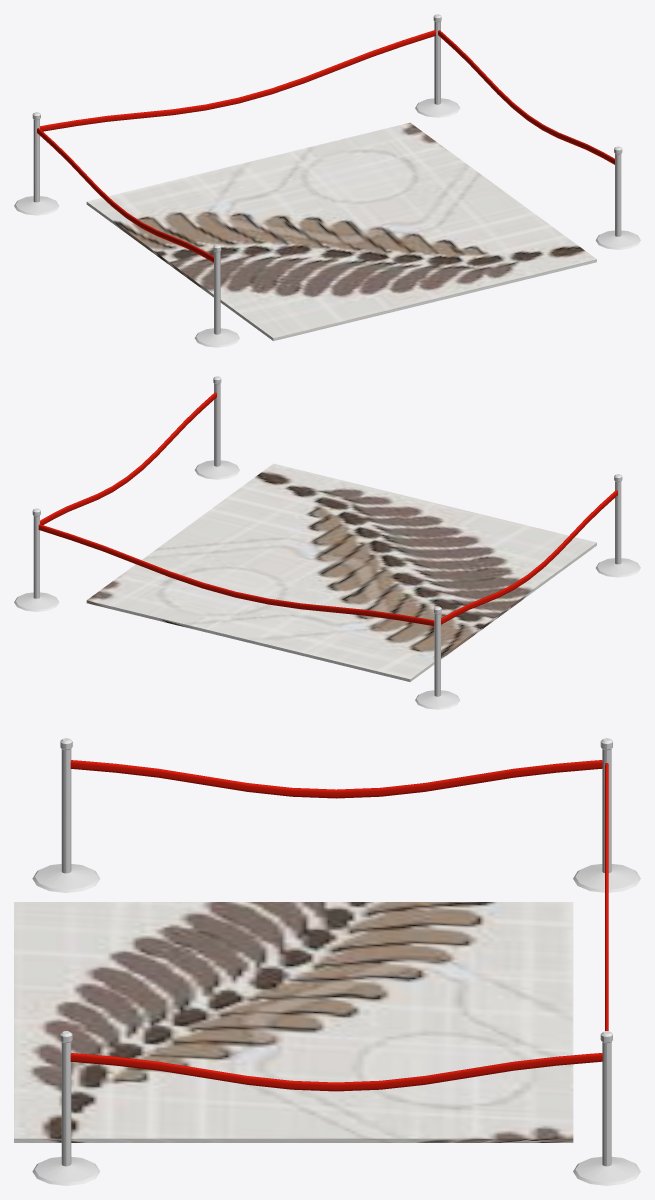
File: Karpet.fbx
3 renders of one model, top to bottom at view 1: azimuth 30°, elevation 25°; view 2: azimuth 150°, elevation 25°; view 3: azimuth 270°, elevation 25°, orthographic. The views are drawn at different scales.
Visible parts, largest first — view 1: Cube.005, Plane.003, Cylinder.003, Cylinder.005, Plane.002; view 2: Cube.005, Plane.003, Cylinder.005, Cylinder.003, Plane.002; view 3: Cube.005, Plane.002, Cylinder.003, Cylinder.005, Plane.003.
Part boxes in pixels (<box>): Cube.005: <box>86,122,596,340</box>; Plane.003: <box>40,30,435,131</box>; Cylinder.003: <box>194,146,640,347</box>; Cylinder.005: <box>14,14,460,215</box>; Plane.002: <box>37,30,614,262</box>; Cube.005: <box>86,463,596,681</box>; Plane.003: <box>38,524,434,625</box>; Cylinder.005: <box>14,508,460,709</box>; Cylinder.003: <box>194,376,640,577</box>; Plane.002: <box>40,392,617,624</box>; Cube.005: <box>14,902,573,1142</box>; Plane.002: <box>70,760,602,1091</box>; Cylinder.003: <box>32,738,100,1185</box>; Cylinder.005: <box>573,738,640,1185</box>; Plane.003: <box>605,763,608,1030</box>.
Size of the model in its own units: 389 by 78.38 by 320.
Materials: 3 (1 with a texture image).
